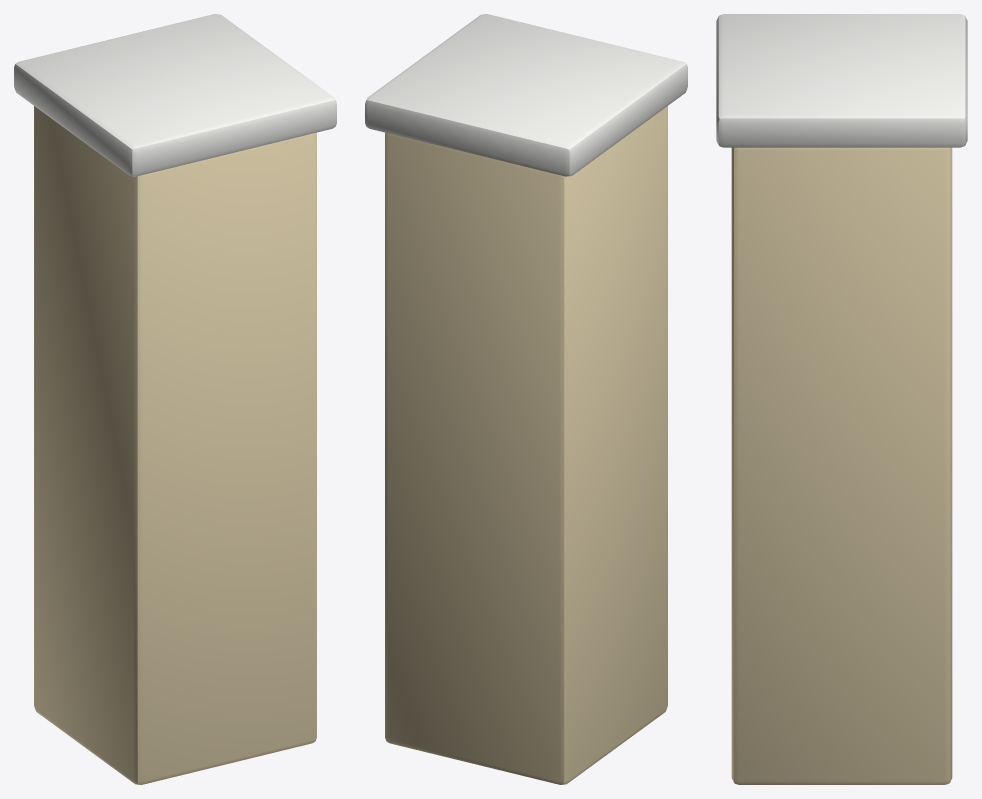
The model's file is cerca_muro_canto.glb.
3 views of the same model, side by side, from view 1: azimuth 30°, elevation 25°; view 2: azimuth 150°, elevation 25°; view 3: azimuth 270°, elevation 25° (orthographic). The views are drawn at different scales.
Visible parts, largest first — view 1: cerca_muro_canto; view 2: cerca_muro_canto; view 3: cerca_muro_canto.
Part boxes in pixels (box(x1,y1,x2,y2)): cerca_muro_canto: box(14, 14, 336, 784); cerca_muro_canto: box(365, 14, 687, 784); cerca_muro_canto: box(716, 14, 967, 784).
Size of the model in its own units: 0.41 by 1.22 by 0.41.
Materials: 1 (1 with a texture image).
